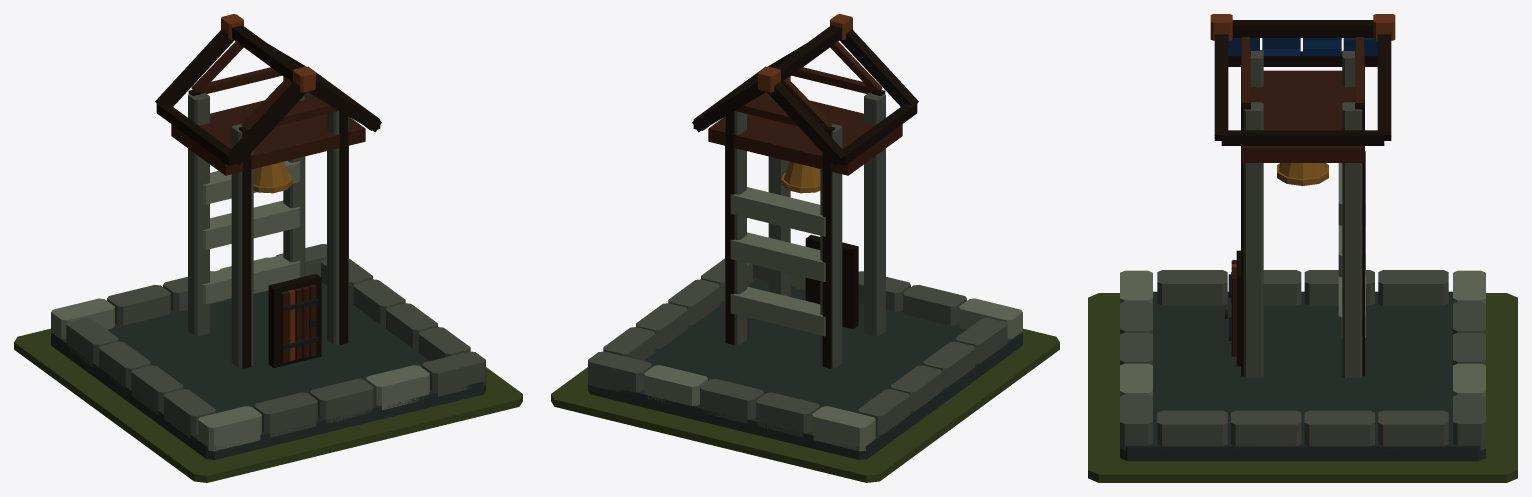
File: bell-tower_t1.glb
The picture shows the model from 3 angles, left to right: view 1: azimuth 30°, elevation 25°; view 2: azimuth 150°, elevation 25°; view 3: azimuth 270°, elevation 25°; orthographic projection. The views are drawn at different scales.
Parts seen in each view (by area): view 1: MMR | bell-tower | T01 Architecture.001, MMR | bell-tower | Tier 01 Ground.001; view 2: MMR | bell-tower | T01 Architecture.001, MMR | bell-tower | Tier 01 Ground.001; view 3: MMR | bell-tower | T01 Architecture.001, MMR | bell-tower | Tier 01 Ground.001.
Part boxes in pixels (<box>): MMR | bell-tower | T01 Architecture.001: <box>51,14,485,459</box>; MMR | bell-tower | Tier 01 Ground.001: <box>14,328,522,482</box>; MMR | bell-tower | T01 Architecture.001: <box>588,14,1022,459</box>; MMR | bell-tower | Tier 01 Ground.001: <box>551,328,1059,482</box>; MMR | bell-tower | T01 Architecture.001: <box>1120,14,1485,461</box>; MMR | bell-tower | Tier 01 Ground.001: <box>1088,293,1517,482</box>.
Bounding box in the file's own units: 2.35 × 2.25 × 2.35.
Materials: 1 (1 with a texture image).
